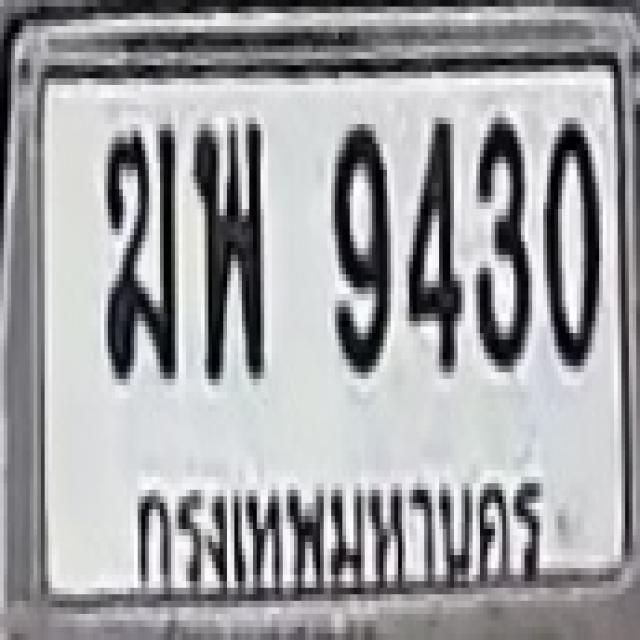0: (543, 117, 599, 366)
3: (472, 111, 528, 366)
4: (406, 111, 458, 366)
9: (331, 114, 387, 369)
A06: (100, 118, 175, 372)
A30: (190, 114, 260, 376)
BKK: (118, 462, 562, 608)
